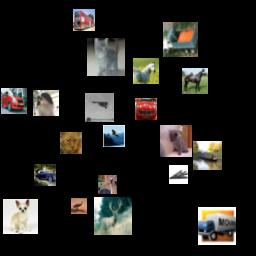airplane: (85, 93, 114, 122), (169, 165, 188, 184)
automobile: (1, 88, 27, 114), (34, 164, 56, 186), (135, 98, 157, 120)
bird: (103, 125, 125, 147), (98, 175, 117, 194), (71, 198, 87, 214)
cat: (87, 38, 125, 76), (160, 125, 192, 157), (60, 132, 82, 154)
deer: (94, 197, 132, 235)
dog: (3, 199, 38, 234), (33, 90, 59, 116)
ship: (193, 141, 222, 170)
truck: (198, 207, 236, 245), (163, 22, 198, 57), (73, 9, 95, 31)
